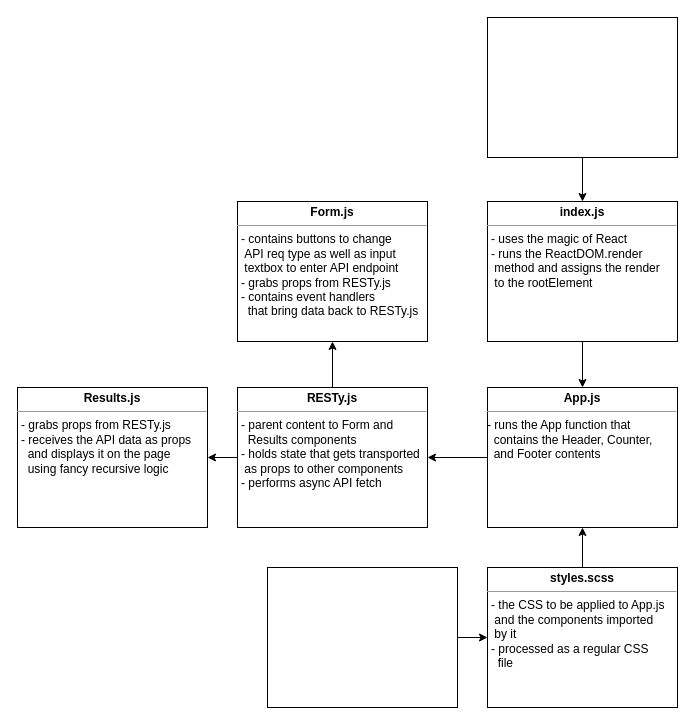
This 695x725 diagram has some shape labels left out. Each missing label, with the centre of its shape:
"_base.scss - base CSS to be used for other CSS files" belongs at [362,637].
"index.html - template file on which the React content gets rendered when running" belongs at [582,87].
